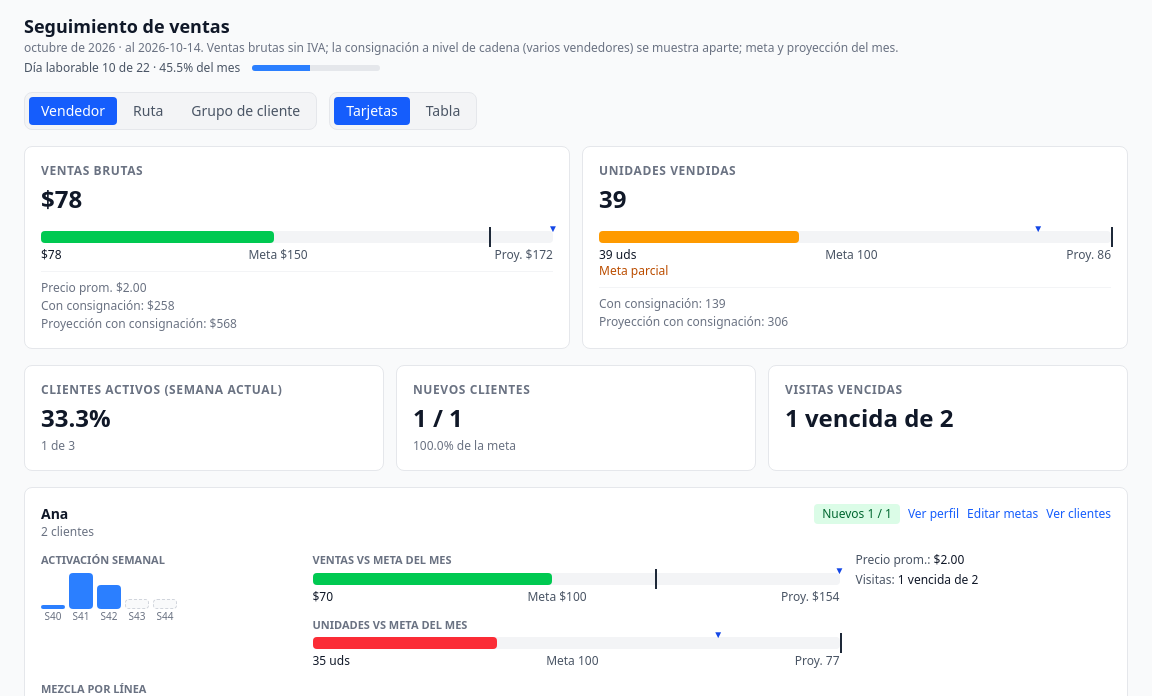
Scenario: TabSeguimiento › hierarchy: expand a seller, then a customer to see its invoice lines
Check: the heading "Seguimiento de ventas" is shown, box left=24, top=14, right=230, bottom=38
Click the button "Ver clientes": (1079, 514) left=1046, top=506, right=1111, bottom=522
(page scrolled)
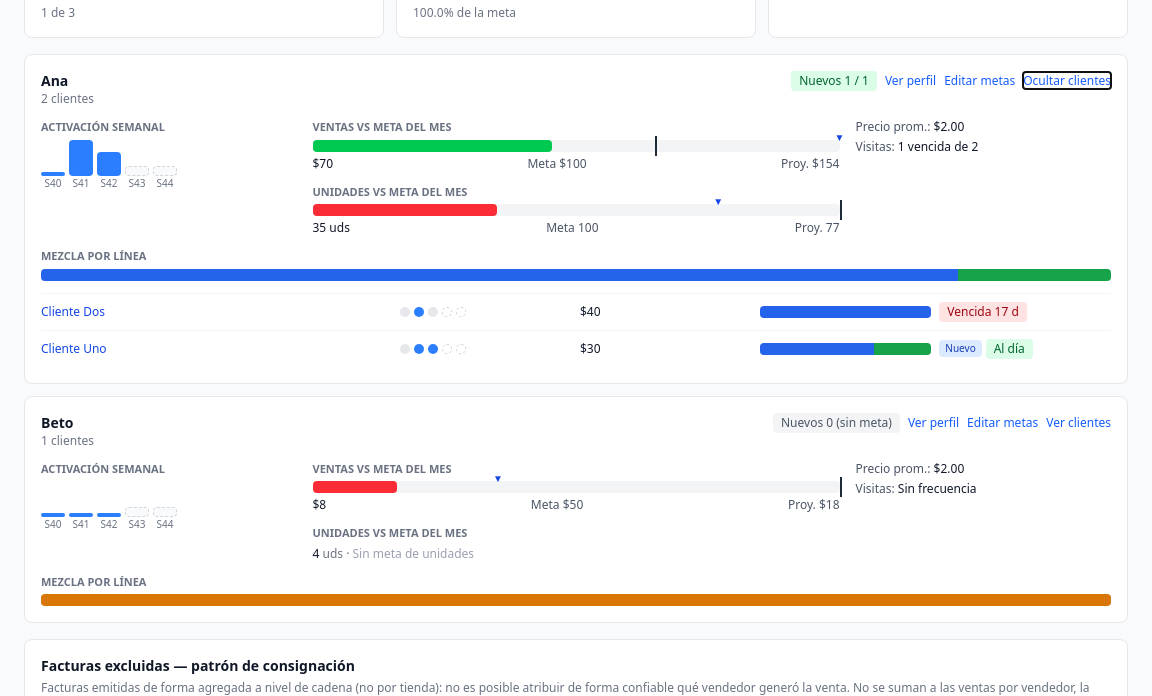
Check: the button "Cliente Uno" is shown
Click the button "Cliente Uno": (74, 348) left=41, top=340, right=392, bottom=356
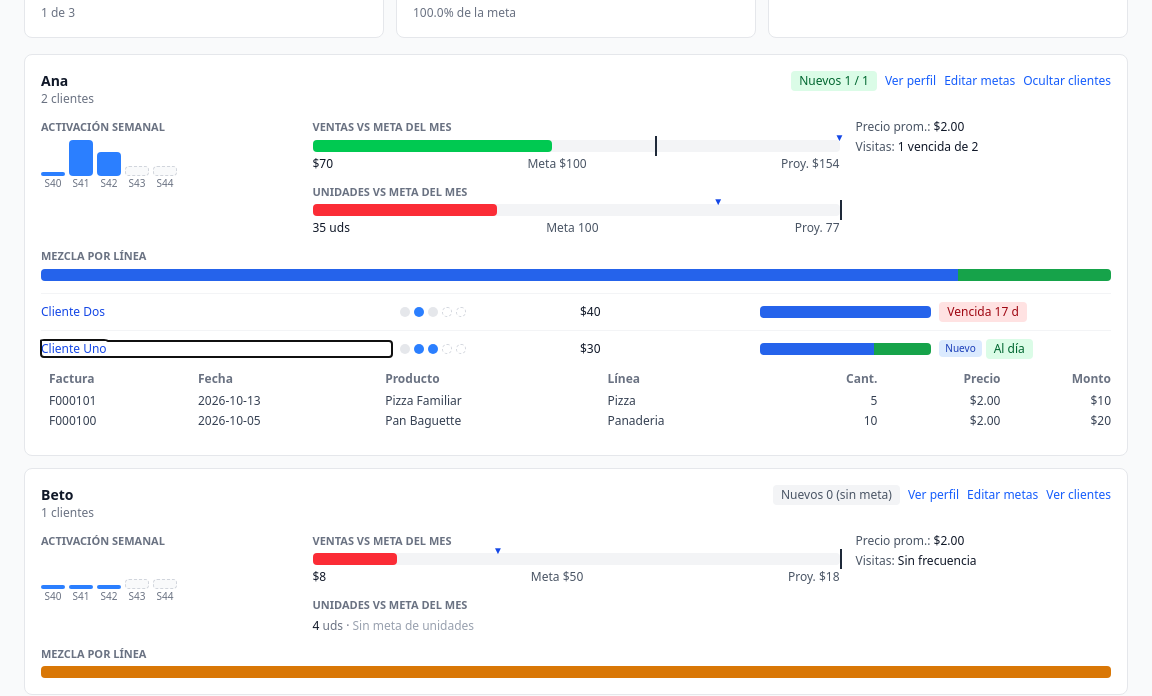
Check: the text "F000101" is shown, box left=49, top=390, right=198, bottom=410
Check: the text "Pizza Familiar" is shown, box left=385, top=390, right=607, bottom=410
